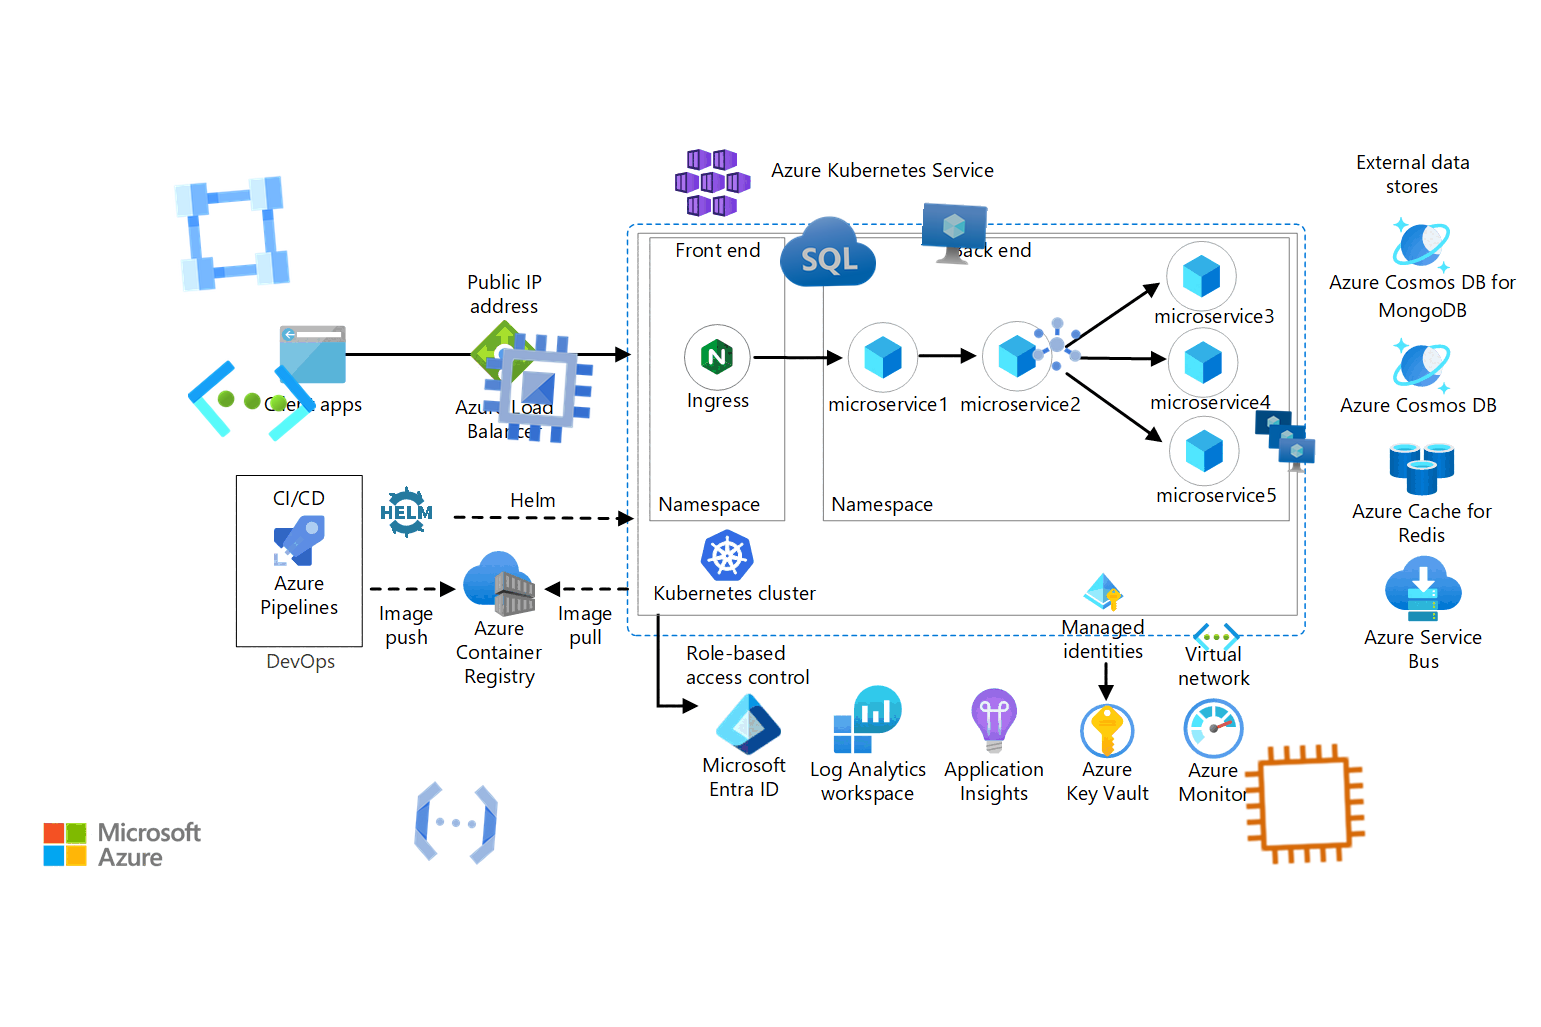aws_ec2_instance: (1239, 737, 1371, 871)
azure_sql: (778, 203, 878, 303)
azure_virtual_machine: (920, 202, 988, 271)
azure_virtual_networks: (182, 331, 322, 471)
azure_vm_scale_sets: (1250, 406, 1318, 475)
gcp_cloud_functions: (404, 771, 508, 875)
gcp_compute_engine: (469, 319, 607, 457)
gcp_pubsub: (1024, 311, 1090, 377)
gcp_virtual_private_cloud: (162, 164, 302, 304)
